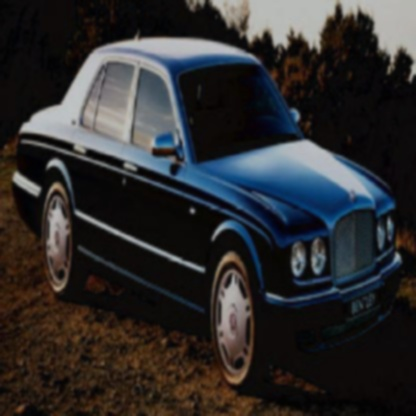Vehicle: (13, 35, 406, 396)
